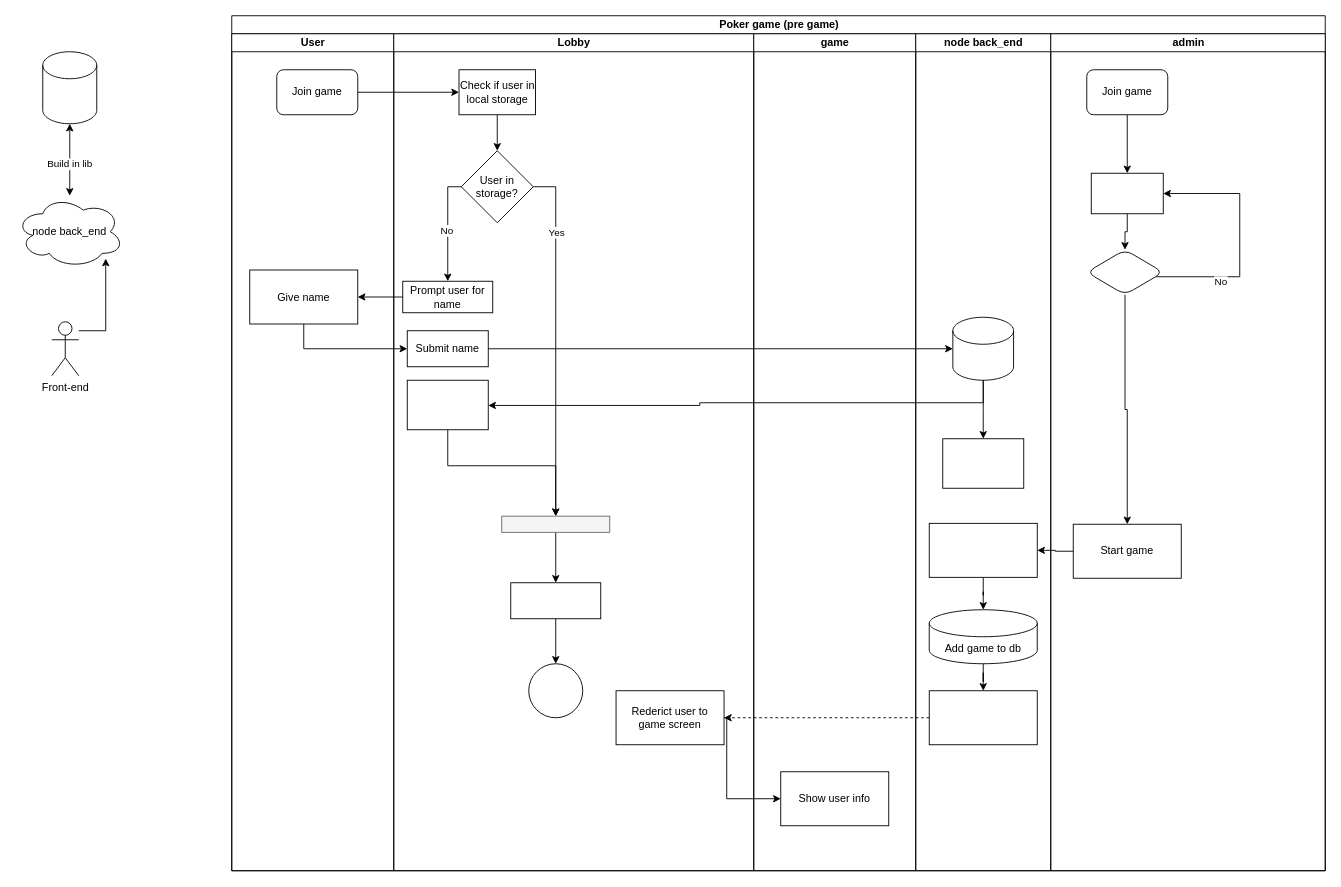
Image size: 1341x887. Some labels were removed from this diagram. Here are the shapes that lost their labels. From the top down, the centre of each, then its label:
At (x=69, y=87): "SQLiteDB".
At (x=1126, y=193): "Manage".
At (x=1124, y=272): "Users ready?".
At (x=983, y=348): "Add user to db".
At (x=447, y=404): "Save user local storage".
At (x=983, y=463): "Add user in player list".
At (x=982, y=549): "Create a game".
At (x=555, y=600): "Display name".
At (x=555, y=690): "Wait game starts".
At (x=982, y=717): "Inform lobby game has started".
